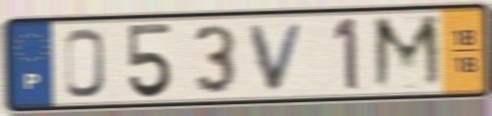0: (63, 26, 108, 100)
1: (330, 15, 365, 93)
3: (190, 23, 238, 96)
5: (124, 20, 173, 100)
M: (370, 12, 448, 93)
V: (246, 19, 310, 93)
